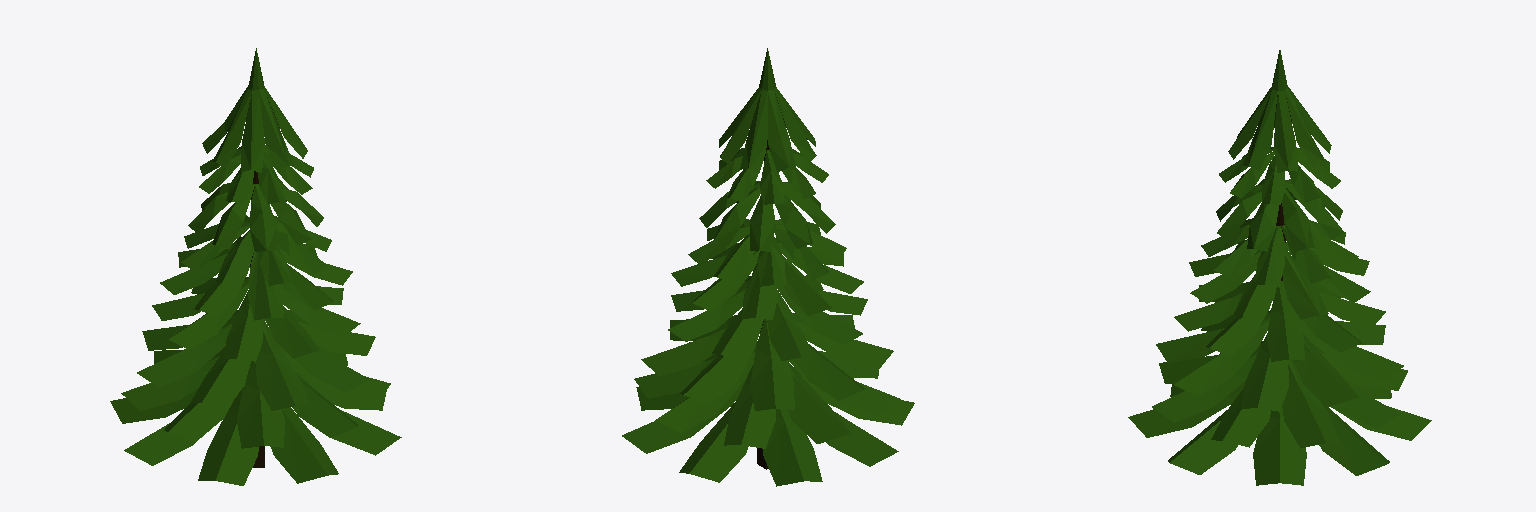
File: LowPolyFir.obj
The picture shows the model from 3 angles: view 1: azimuth 30°, elevation 25°; view 2: azimuth 150°, elevation 25°; view 3: azimuth 270°, elevation 25°; orthographic projection.
Visible parts, largest first — view 1: Fir-tree_Cylinder.002; view 2: Fir-tree_Cylinder.002; view 3: Fir-tree_Cylinder.002.
Part boxes in pixels (bbox=[...]): Fir-tree_Cylinder.002: bbox=[110, 48, 401, 485]; Fir-tree_Cylinder.002: bbox=[622, 48, 914, 486]; Fir-tree_Cylinder.002: bbox=[1128, 50, 1431, 485].
Bounding box in the file's own units: 3.77 × 5.71 × 3.77.